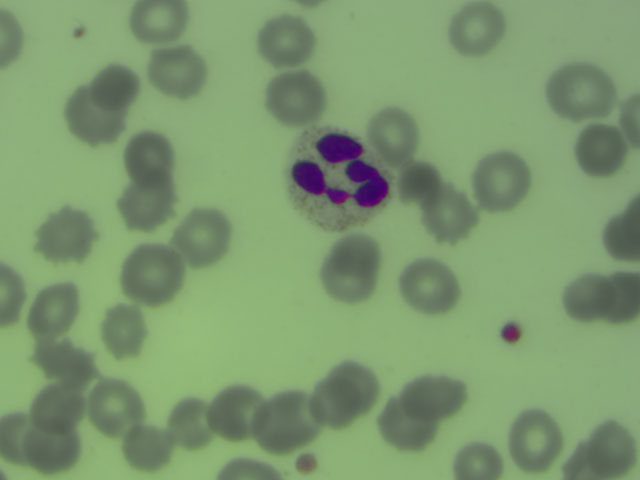Platelets: (494, 316, 527, 353), (289, 450, 322, 476), (65, 19, 94, 46)
RBC: (565, 423, 635, 480), (323, 239, 379, 297), (576, 124, 631, 176), (551, 67, 606, 119), (474, 156, 529, 208), (419, 191, 474, 243), (390, 153, 445, 205), (368, 107, 423, 159), (452, 3, 507, 55), (263, 73, 318, 125), (258, 17, 313, 69), (507, 411, 562, 463), (405, 369, 460, 421), (379, 399, 434, 451), (401, 258, 456, 310), (327, 358, 382, 410), (304, 378, 359, 430), (260, 391, 315, 443), (211, 388, 266, 440), (165, 396, 220, 448), (117, 420, 172, 472), (89, 380, 144, 432), (99, 303, 154, 355), (123, 249, 178, 301), (174, 209, 229, 261), (25, 418, 80, 470), (30, 379, 85, 431), (37, 335, 92, 387), (25, 283, 80, 335), (38, 210, 93, 262), (120, 178, 175, 230), (120, 131, 175, 183), (65, 87, 120, 139), (89, 60, 144, 112), (150, 45, 205, 97), (557, 269, 612, 321), (1, 407, 45, 470), (127, 1, 190, 43), (450, 437, 501, 480), (212, 451, 284, 480), (1, 259, 30, 330), (597, 209, 640, 256), (599, 274, 640, 321), (1, 4, 24, 70)
WBC: (286, 123, 392, 230)
